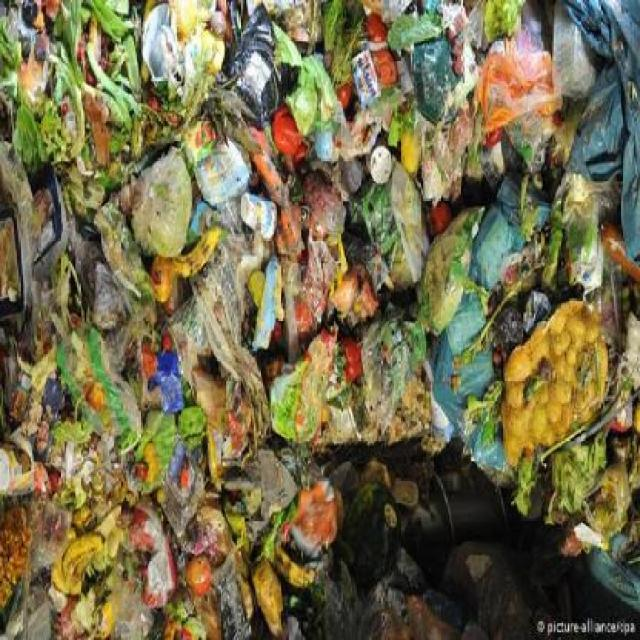garbage: (1, 1, 640, 457), (0, 468, 308, 639), (489, 463, 638, 576)
